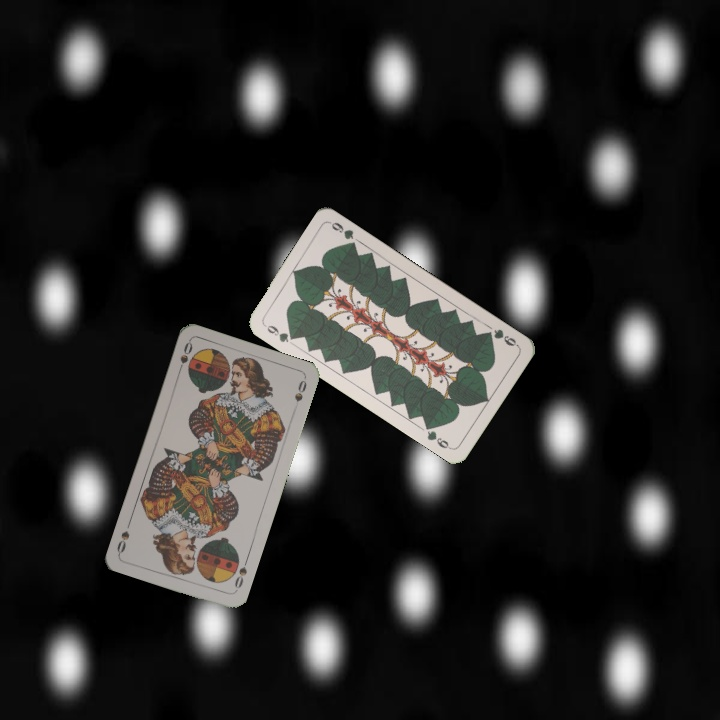G9: (481, 325, 521, 349), (260, 321, 299, 345)
SO: (174, 337, 195, 377), (230, 555, 250, 594)
